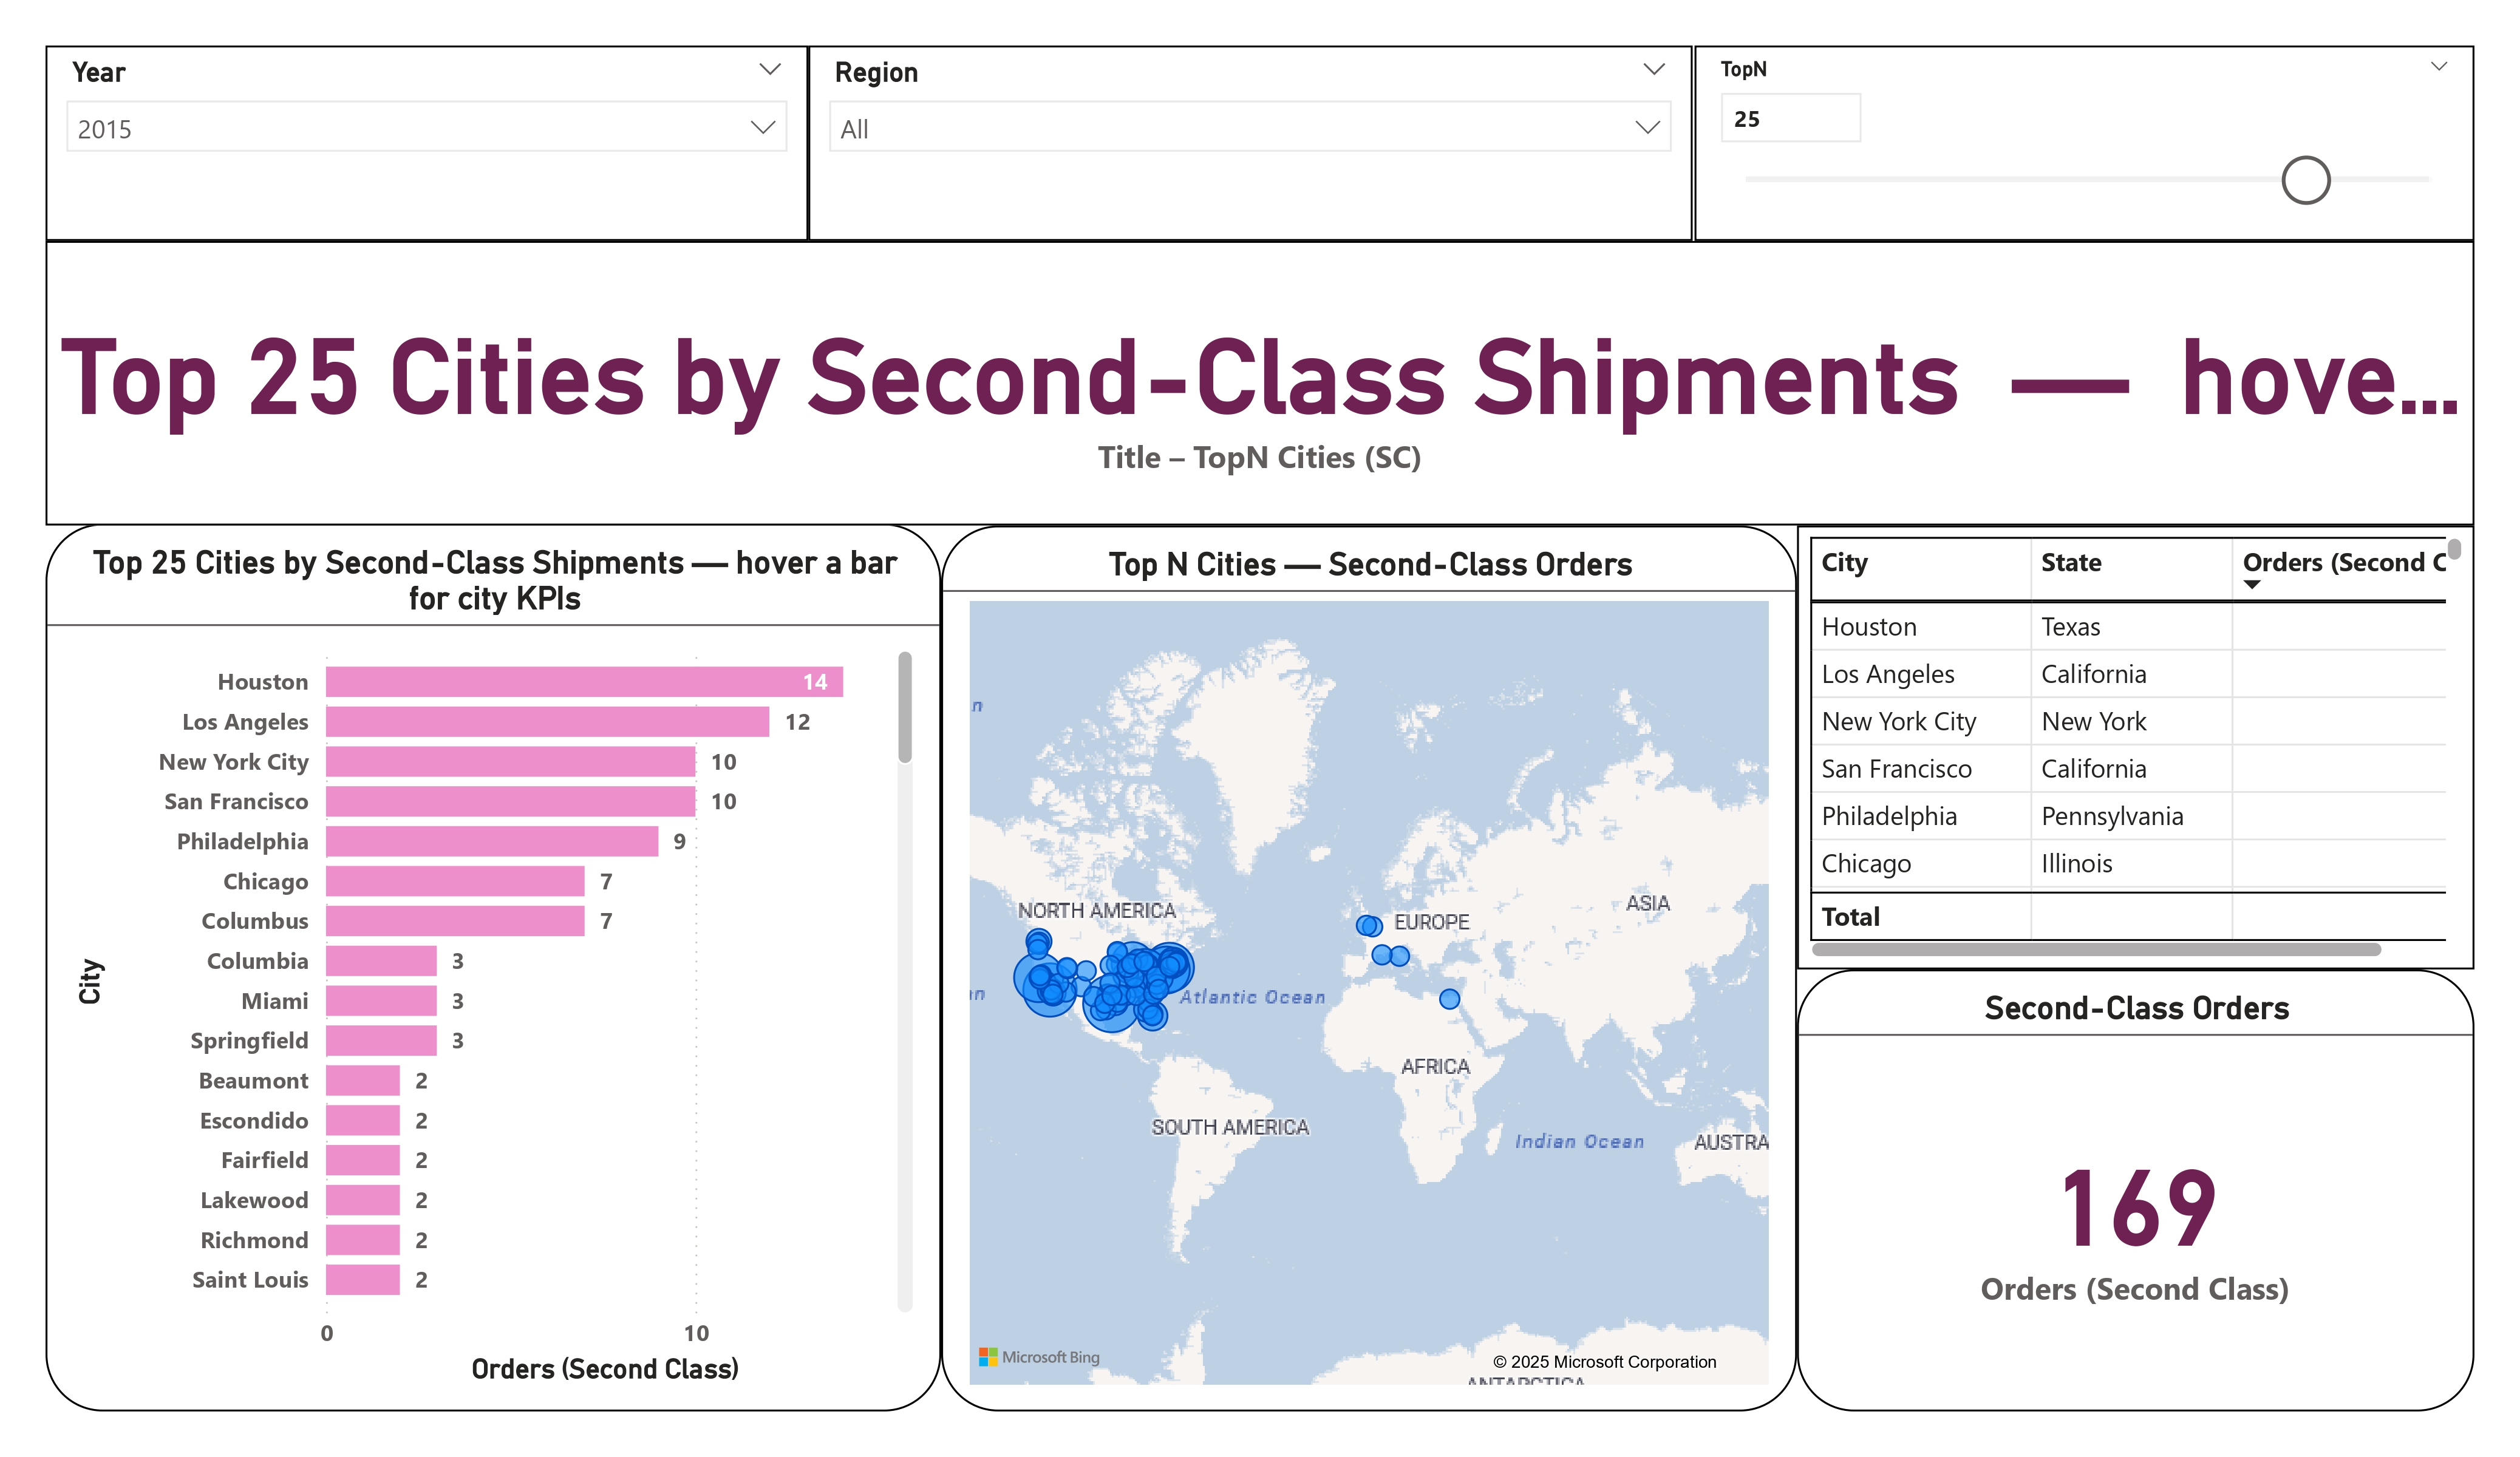

The page's visual inventory and layout, read from the dashboard file:
{"tool":"powerbi","page":{"name":"Top N Cities by Second-Class Shipments (hover for city insight)","canvas":[1280,720],"ordinal":6},"visuals":[{"type":"slicer","fields":{"Values":["TopN.TopN"]},"box":[868.6,0,411.4,102.9],"z":0},{"type":"slicer","fields":{"Values":["Append1.Year"]},"box":[0,0,401.7,103.3],"z":1000},{"type":"slicer","fields":{"Values":["Append1.Region"]},"box":[401.7,0,466.7,103.3],"z":2000},{"type":"card","title":"Second-Class Orders","fields":{"Values":["Append1.Orders (Second Class)"]},"box":[923.3,486.7,356.7,233.3],"z":3000},{"type":"clusteredBarChart","fields":{"Category":["Append1.City"],"Y":["Append1.Orders (Second Class)"]},"box":[0,251.7,471.7,468.3],"z":4000},{"type":"map","title":"Top N Cities — Second-Class Orders","fields":{"Category":["Append1.City"],"Size":["Append1.Orders (Second Class)"]},"box":[471.7,253.3,451.7,466.7],"z":5000},{"type":"tableEx","fields":{"Values":["Append1.City","Append1.State","Append1.Orders (Second Class)"]},"box":[923.3,253.3,356.7,233.3],"z":6000},{"type":"card","fields":{"Values":["Append1.Title – TopN Cities (SC)"]},"box":[0,103.3,1280,150],"z":7000}]}

Visuals, with their boxes on the page's 1280x720 design canvas (x1, y1, x2, y2). These are canvas units, not pixel positions in the 2520x1457 screenshot, which may show the page scaled, cropped or inside an application window:
slicer - TopN.TopN: {"x1": 869, "y1": 0, "x2": 1280, "y2": 103}
slicer - Append1.Year: {"x1": 0, "y1": 0, "x2": 402, "y2": 103}
slicer - Append1.Region: {"x1": 402, "y1": 0, "x2": 868, "y2": 103}
"Second-Class Orders" card: {"x1": 923, "y1": 487, "x2": 1280, "y2": 720}
clusteredBarChart - Append1.City x Append1.Orders (Second Class): {"x1": 0, "y1": 252, "x2": 472, "y2": 720}
"Top N Cities — Second-Class Orders" map: {"x1": 472, "y1": 253, "x2": 923, "y2": 720}
tableEx - Append1.City x Append1.State: {"x1": 923, "y1": 253, "x2": 1280, "y2": 487}
card - Append1.Title – TopN Cities (SC): {"x1": 0, "y1": 103, "x2": 1280, "y2": 253}
